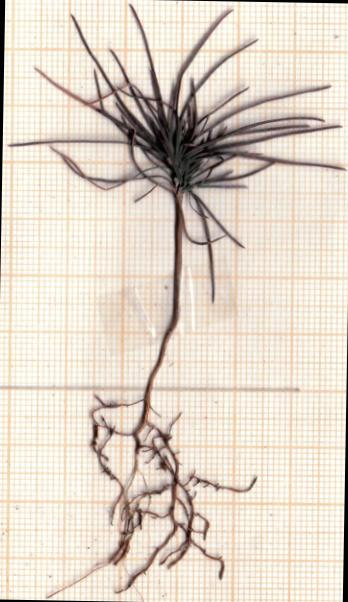flower: (12, 5, 342, 299)
root: (86, 396, 256, 592)
stem: (144, 194, 183, 408)
